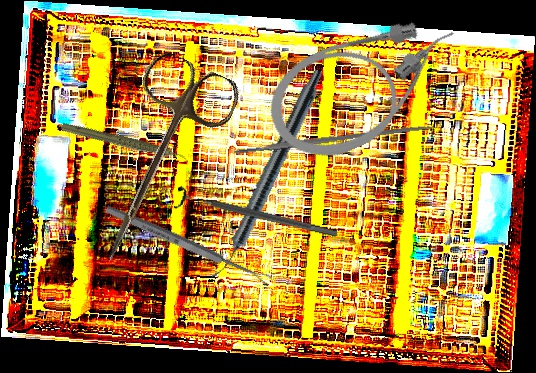Cannula: (252, 0, 481, 175)
Fixation Ring: (173, 184, 340, 247)
Handpiece: (209, 65, 327, 285), (60, 98, 190, 190)
Iris Scissors: (70, 47, 245, 281)
Scalpel Handle: (232, 122, 434, 156)
Surgical Spoon: (104, 203, 272, 287)
